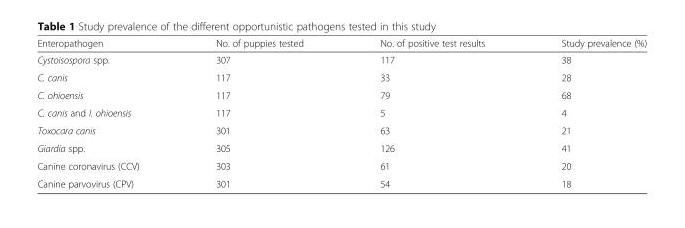table: (36, 37, 646, 188)
table column: (341, 37, 522, 188), (176, 37, 341, 188), (36, 37, 176, 188), (522, 37, 646, 188)
table column header: (36, 37, 646, 51)
table row: (36, 85, 646, 103), (36, 103, 646, 121), (36, 121, 646, 139), (36, 156, 646, 174), (36, 51, 646, 68), (36, 68, 646, 85), (36, 139, 646, 156), (36, 37, 646, 51), (36, 174, 646, 188)
